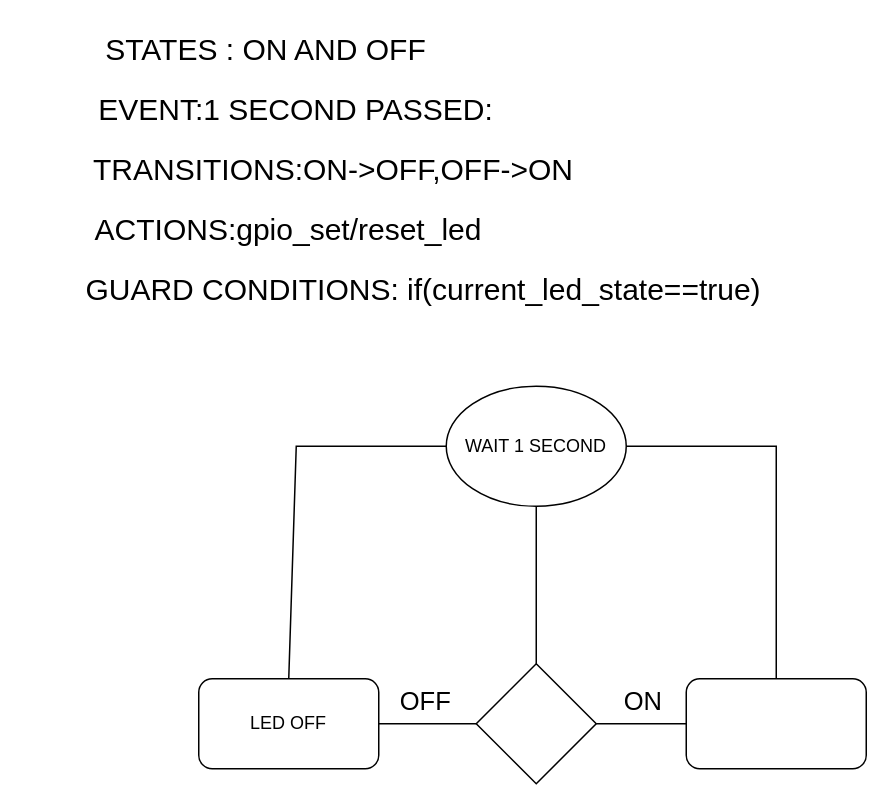
Some shapes in this 893 by 810 pixel diagram are drawn without their labels. The shapes that lost their labels are listed below. From the top down, each one's box as (x1, y1, x2, y2) in pixels, then its label:
(475, 662, 596, 784): led_state
(685, 677, 866, 769): LED ON
